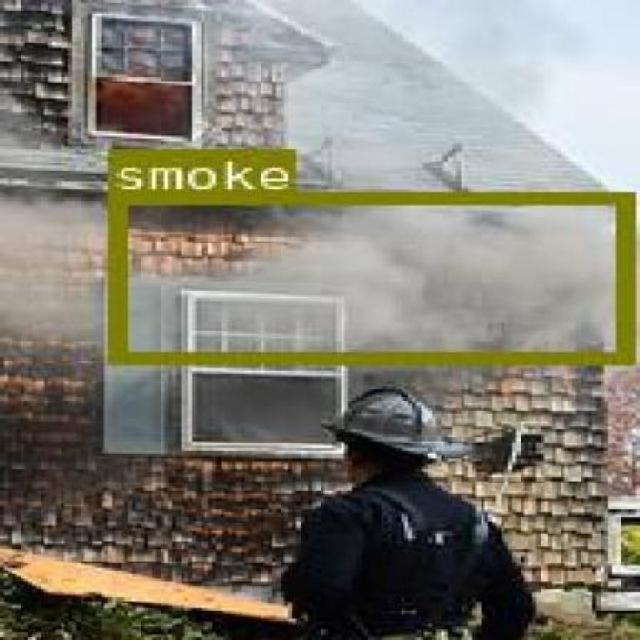Smoke: (106, 190, 631, 362)
